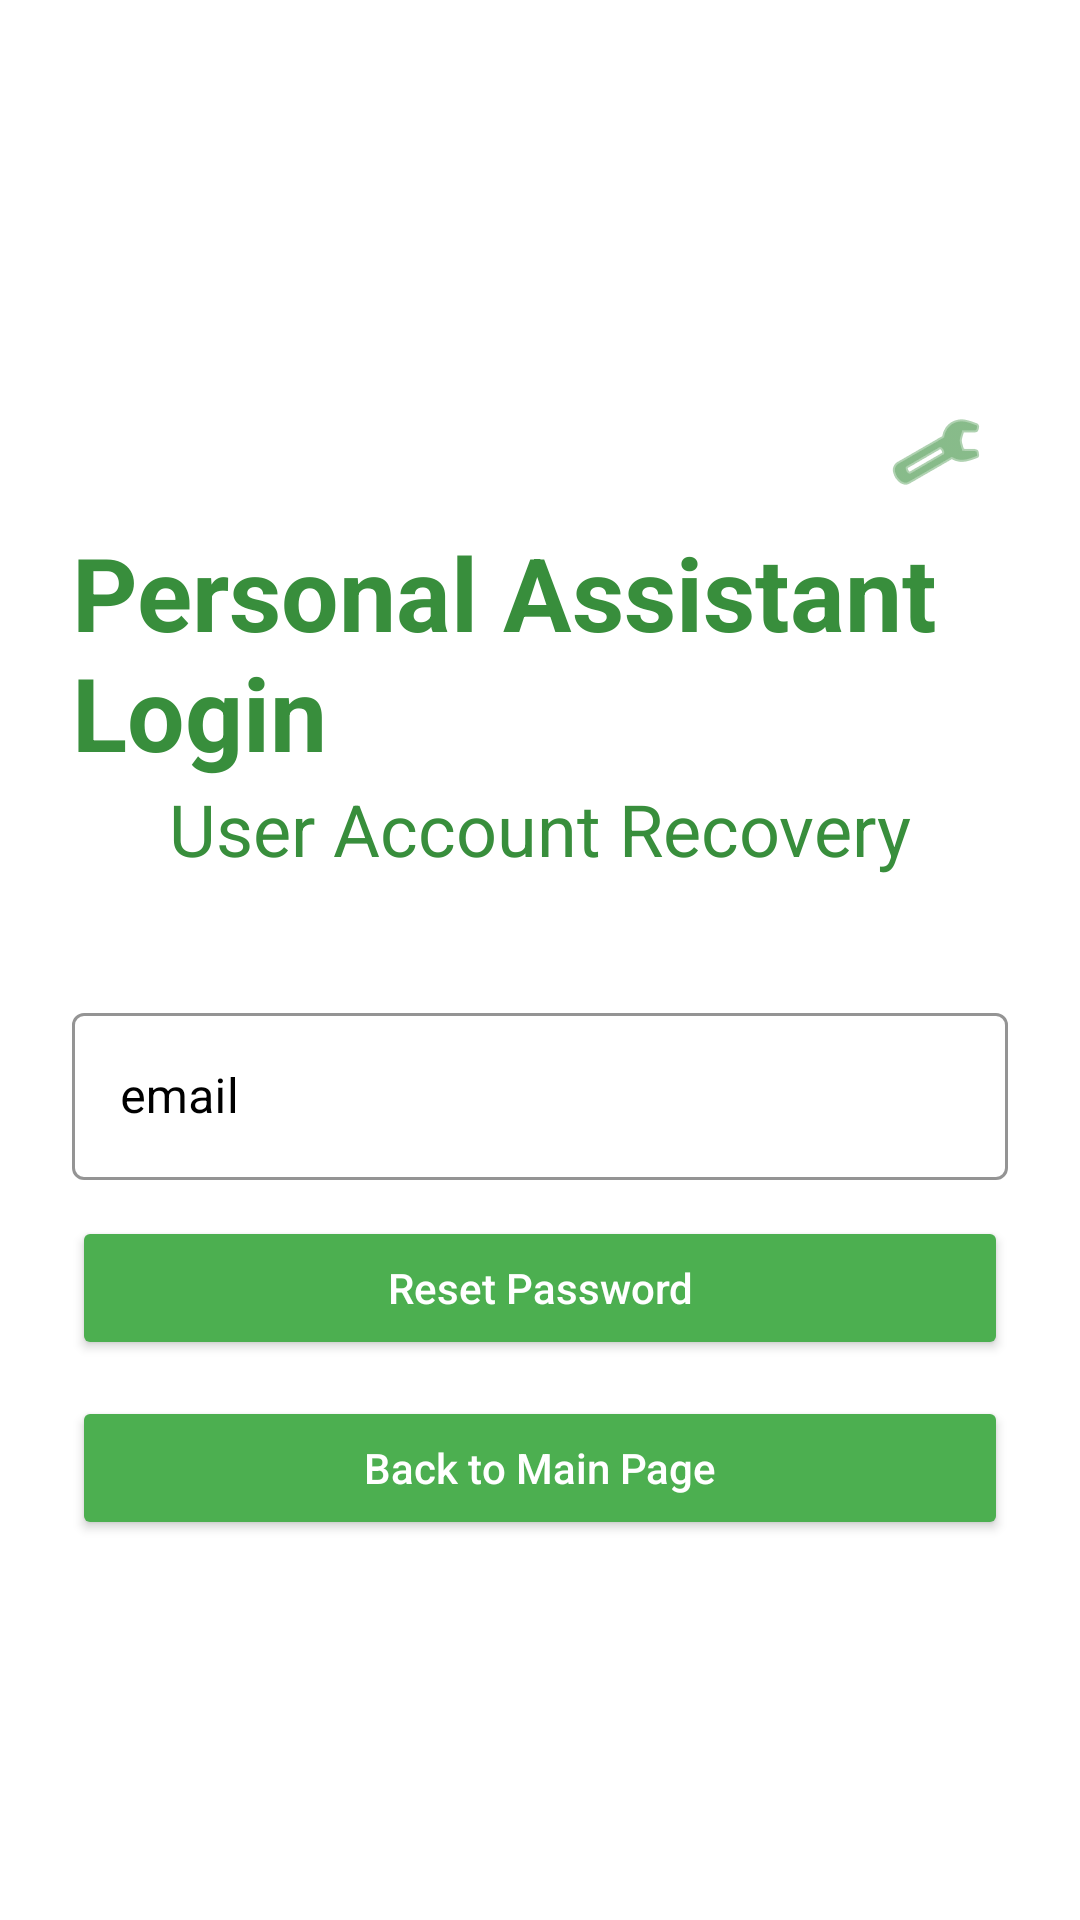

Locate icon controls on the screen. Image size 1080x1920, boxes as bbox=(x1, y1, x2, y2).
Theme Settings: bbox=(893, 419, 979, 485)
